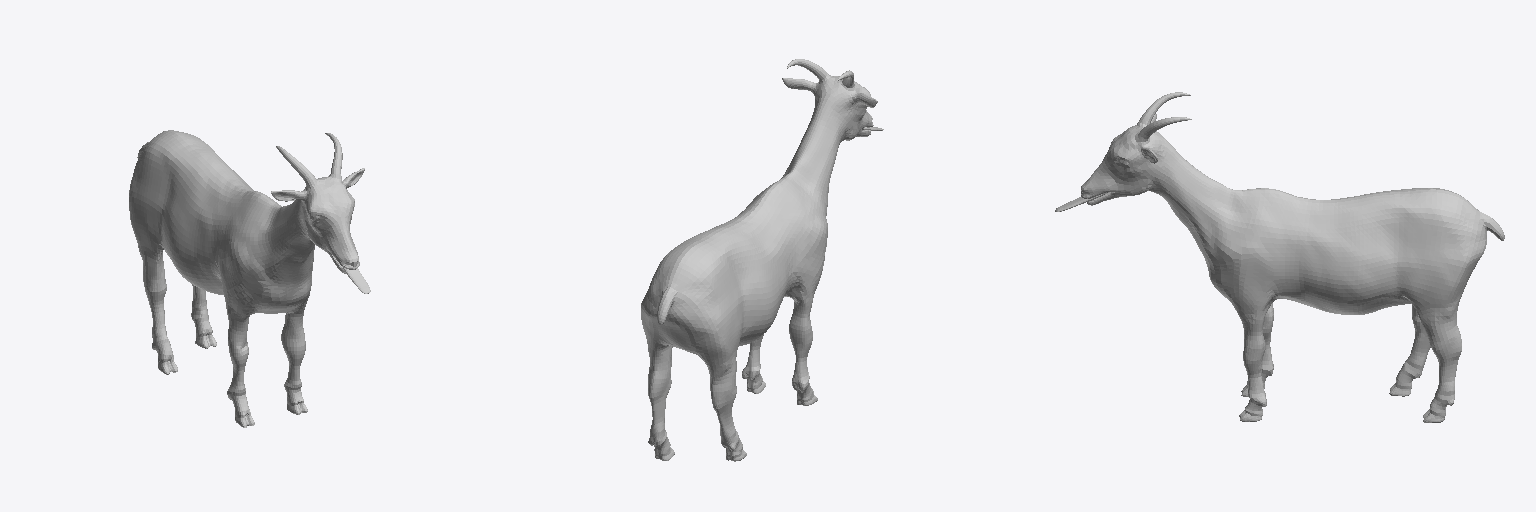
File: Goat.obj
3 renders of one model, left to right at view 1: azimuth 30°, elevation 25°; view 2: azimuth 150°, elevation 25°; view 3: azimuth 270°, elevation 25°, orthographic.
Bounding box in the file's own units: 0.6135 × 1.88 × 2.53.